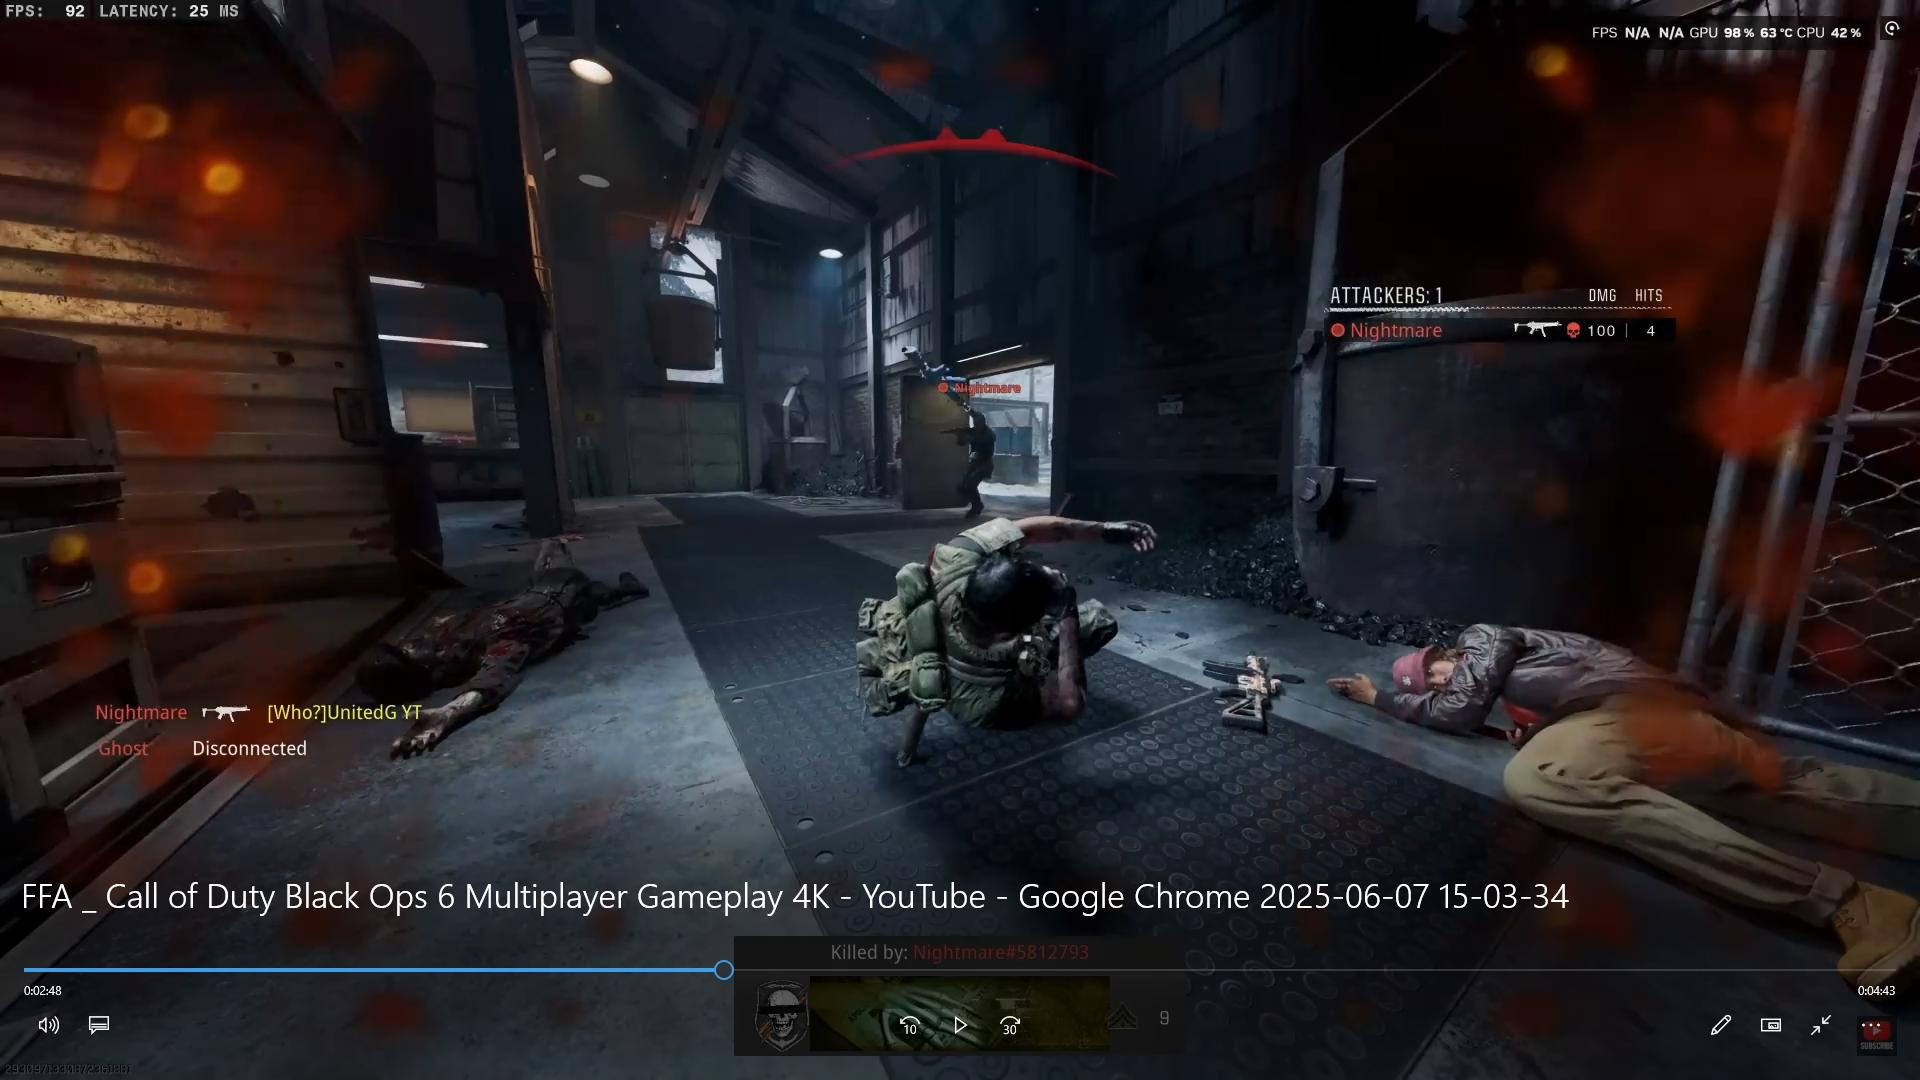Enemy: (944, 407, 1002, 517)
